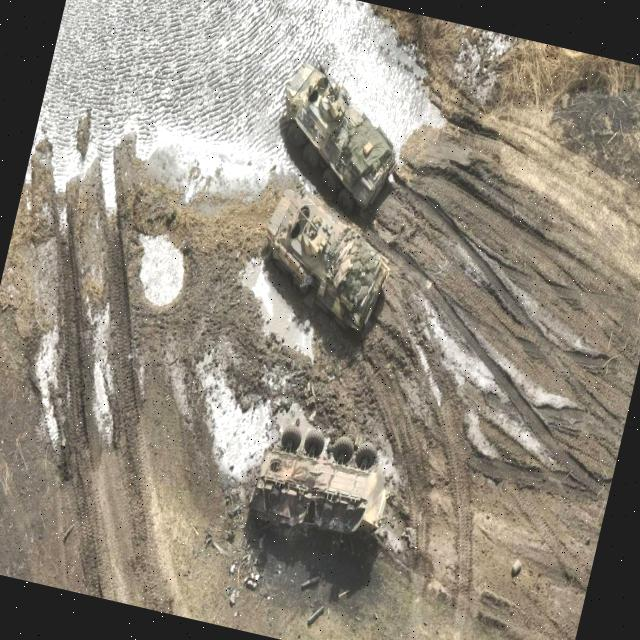APC: (246, 185, 403, 339), (264, 58, 418, 212)
Destroyed: (244, 417, 402, 547)
